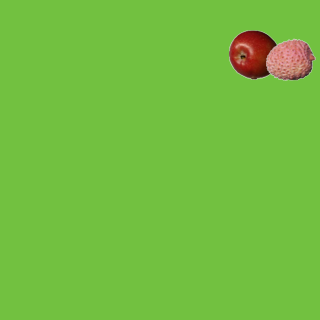Apple Braeburn: (228, 29, 278, 79)
Lychee: (265, 34, 315, 84)
